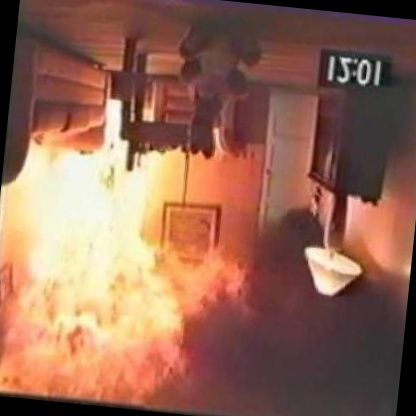fire: (0, 117, 197, 406)
smoke: (181, 172, 416, 416)
